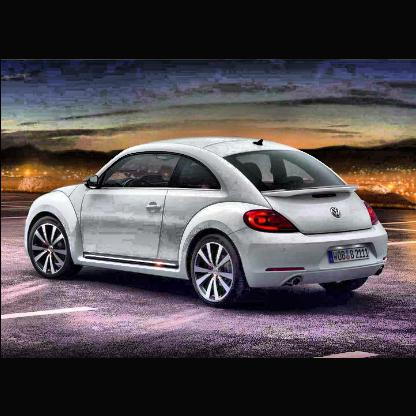Volkswagen Beetle Hatchback 2012: (24, 135, 388, 307)
